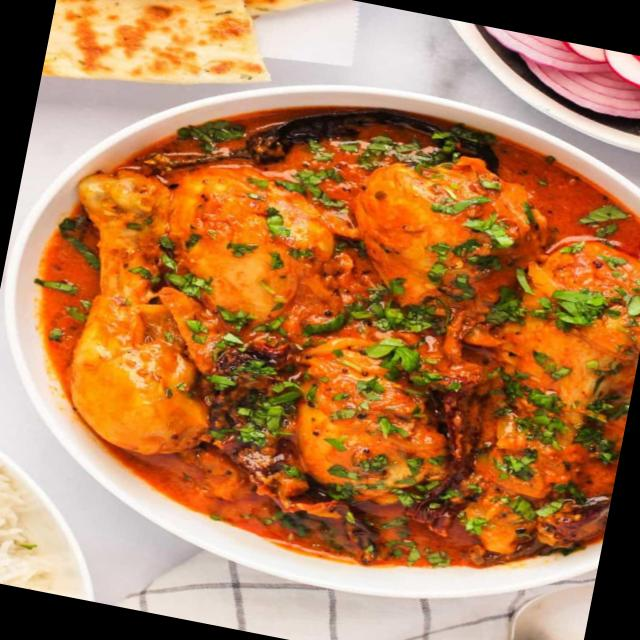chicken: (47, 96, 640, 589)
roti: (41, 0, 325, 126)
